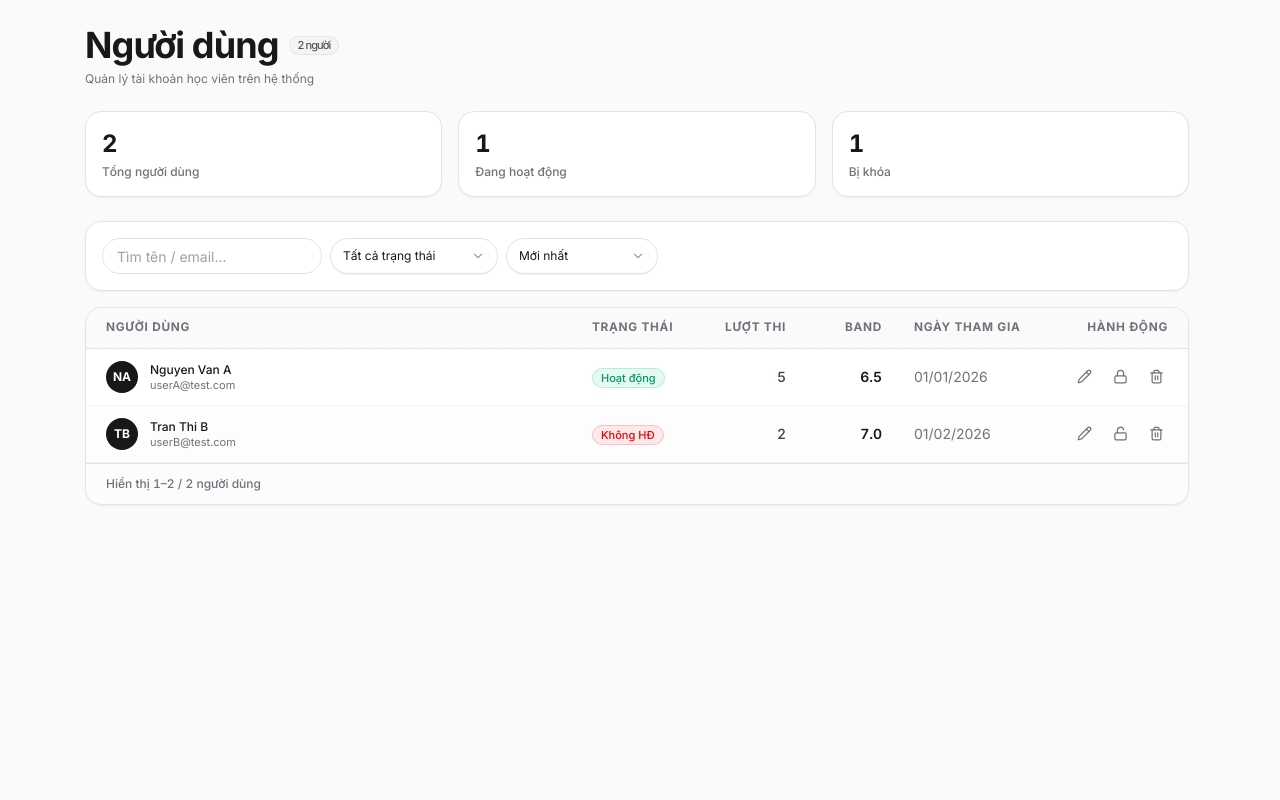
Users page — TanStack Query & Skeleton caching › sends only one toggle-lock request and re-disables the row action while it is in flight
The image size is (1280, 800).
Check: the text "Nguyen Van A" is shown, box left=150, top=362, right=235, bottom=378
Click the button titled "Khoá tài khoản": [1120, 377] box left=1104, top=361, right=1136, bottom=393
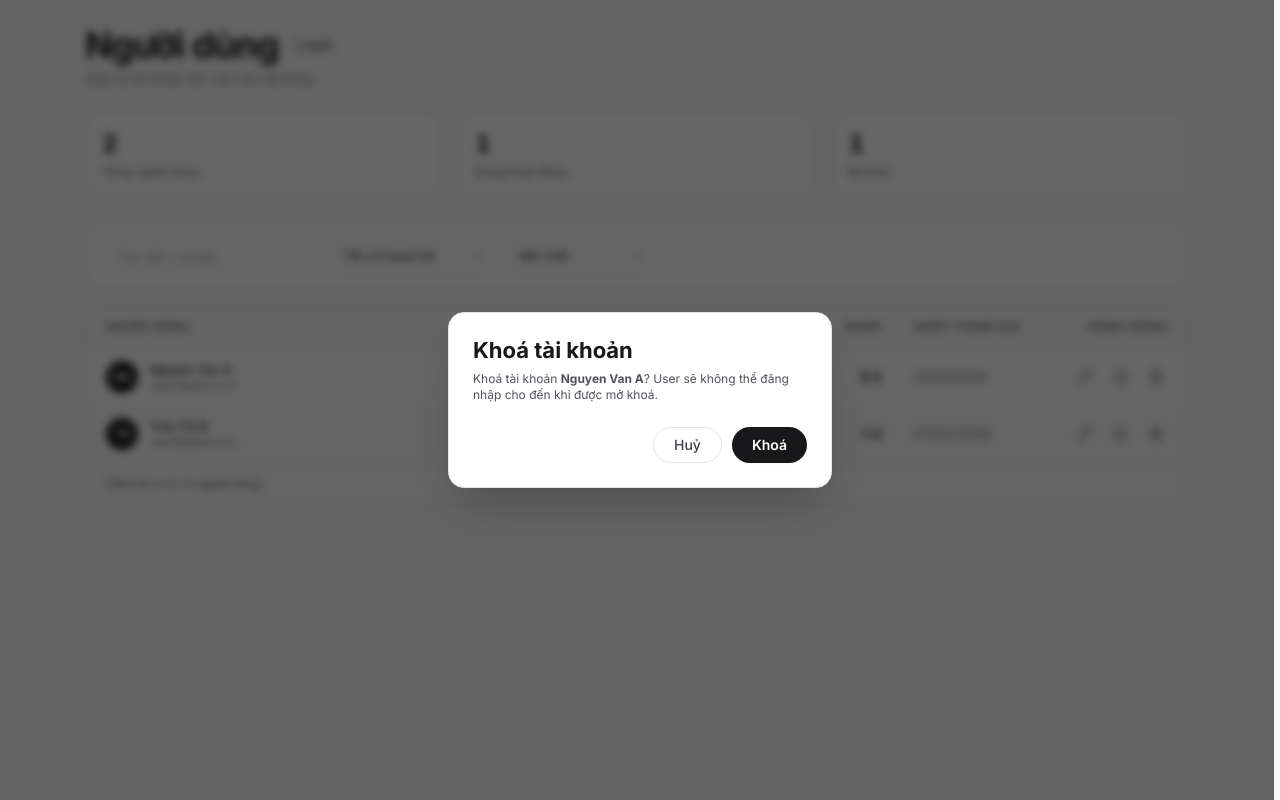
Click the button "Khoá": [769, 445] box left=732, top=427, right=807, bottom=463
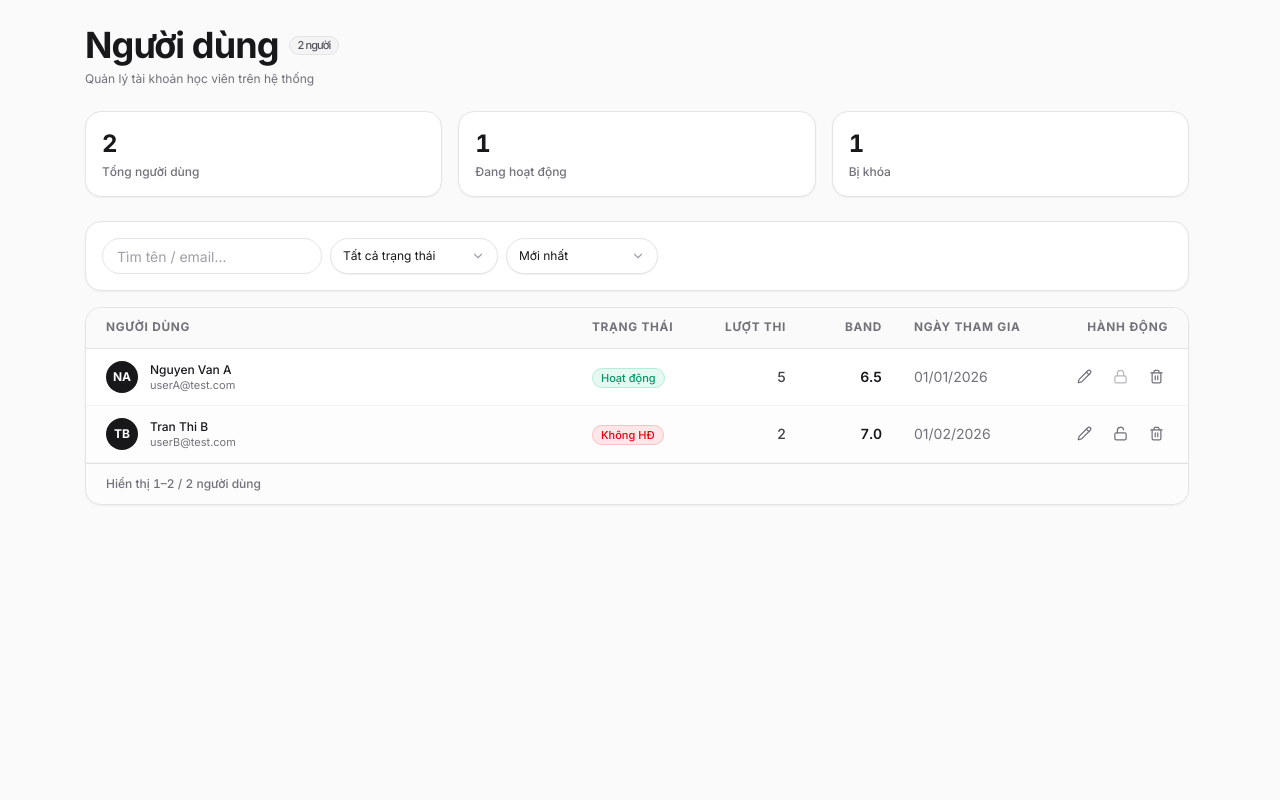
Check: the heading "Khoá" is gone
Check: the button titled "Khoá tài khoản" is disabled
Click the button titled "Khoá tài khoản": [1120, 377] box left=1104, top=361, right=1136, bottom=393
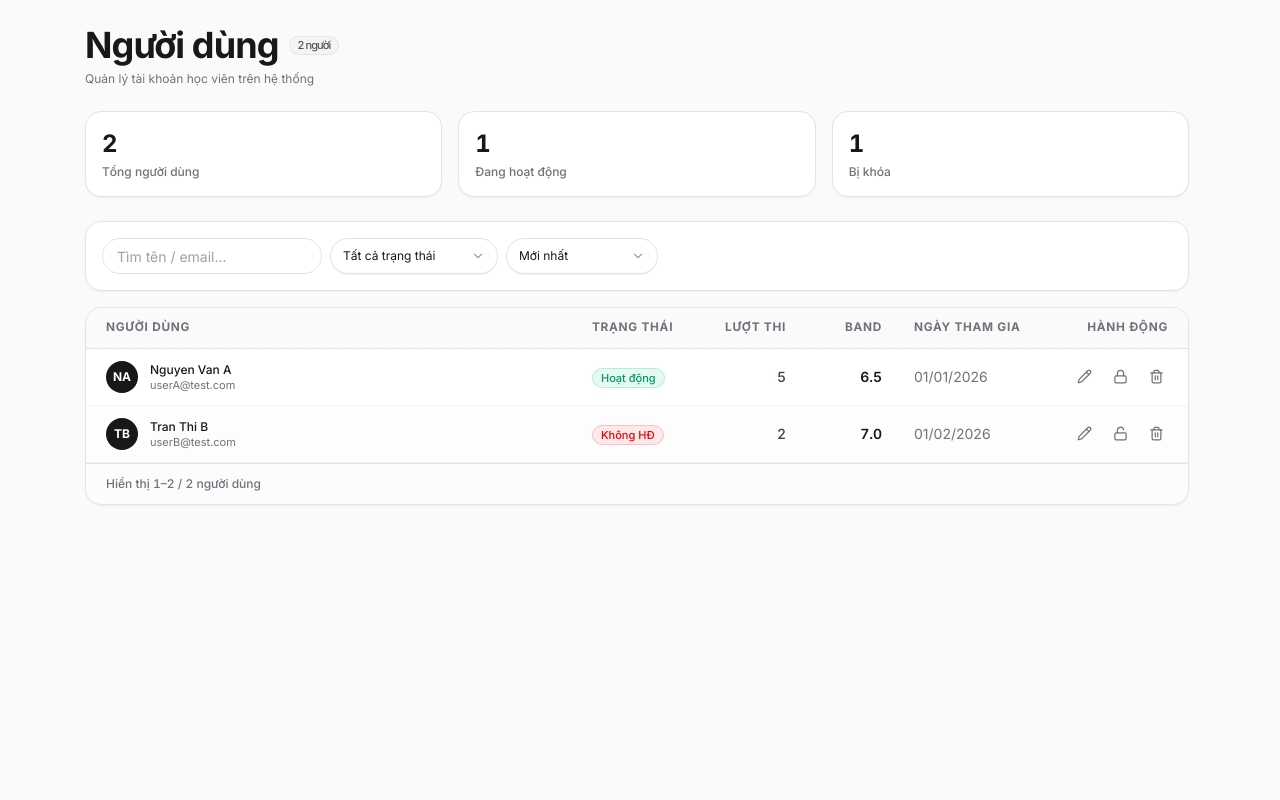
Check: the button titled "Khoá tài khoản" is enabled, box left=1104, top=361, right=1136, bottom=393
